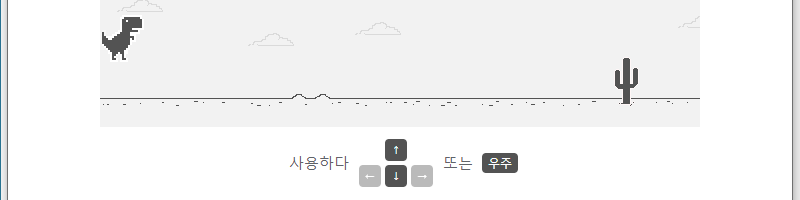dinosaur: (101, 17, 144, 61)
obstacle: (609, 56, 645, 106)
